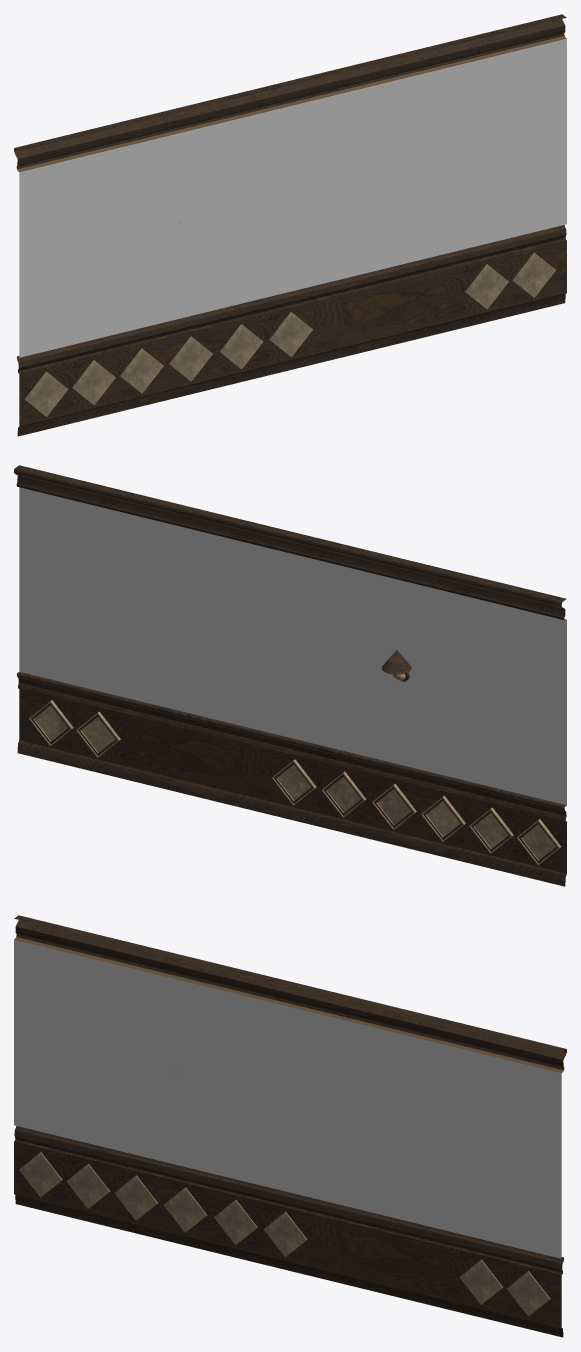
The picture shows the model from 3 angles, top to bottom: view 1: azimuth 30°, elevation 25°; view 2: azimuth 150°, elevation 25°; view 3: azimuth 330°, elevation 25°; orthographic projection.
Visible parts, largest first — view 1: Wall; view 2: Wall, Lamp; view 3: Wall.
Boxes of the visible parts, x1,y1,x2,y2 form: Wall: (14,14,566,436); Wall: (14,465,566,886); Lamp: (381,650,411,681); Wall: (14,915,566,1337).
Bounding box in the file's own units: 5 × 2.5 × 0.2667.
